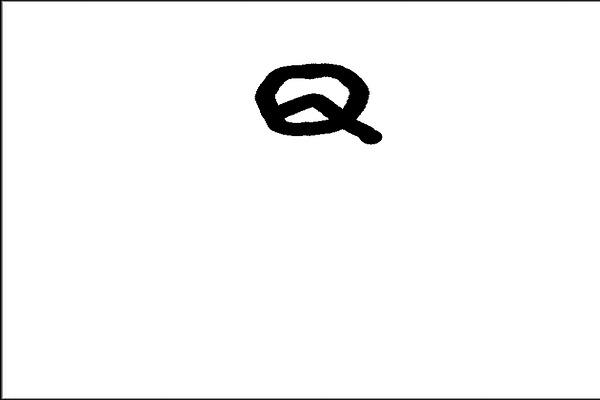Q: (245, 55, 391, 148)
